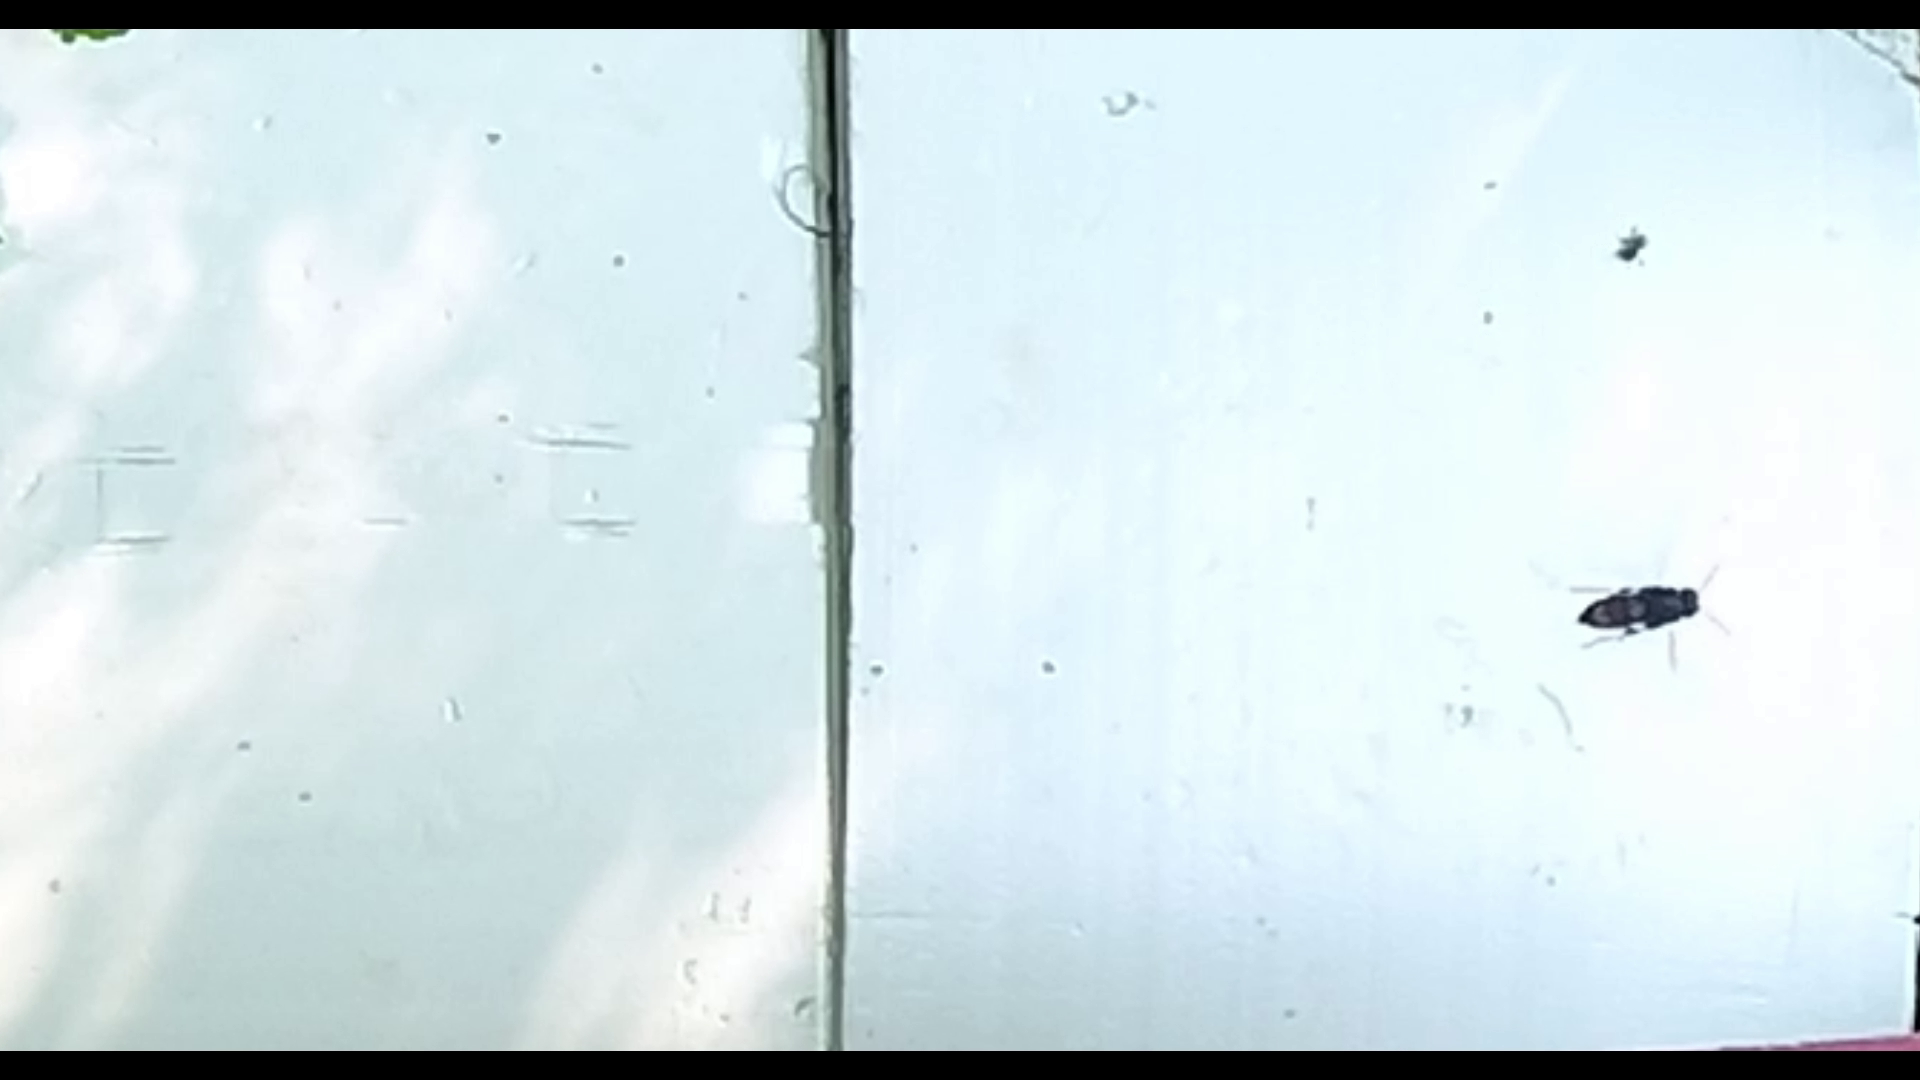Asian_hornets: (1553, 554, 1750, 680)
